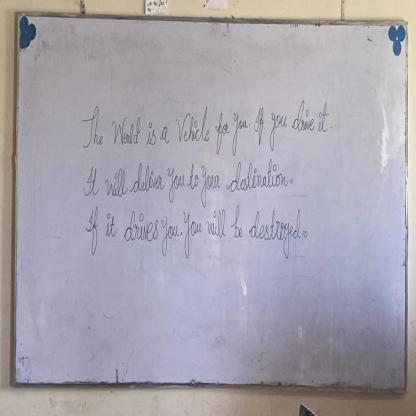Handwritten text: (79, 96, 330, 161), (70, 201, 303, 261), (74, 158, 291, 208)
Whiteboard: (12, 11, 409, 393)
